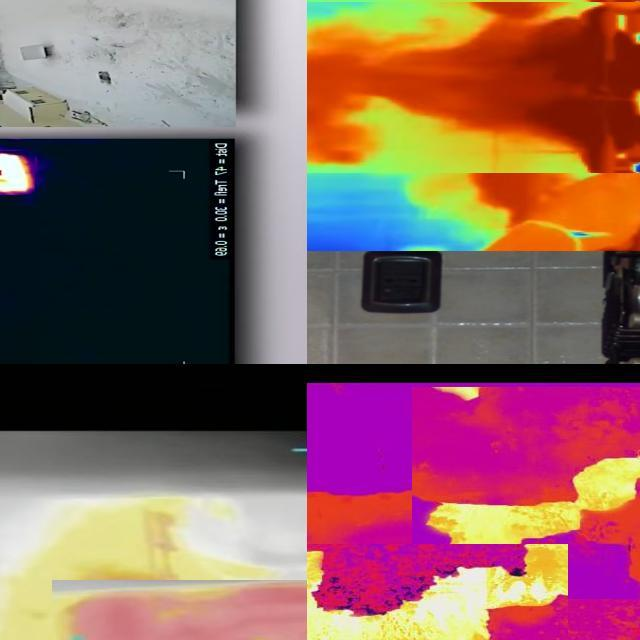fire: (308, 544, 569, 640), (429, 457, 640, 544), (54, 582, 308, 640), (577, 2, 640, 166), (1, 151, 36, 195), (438, 389, 489, 406)
